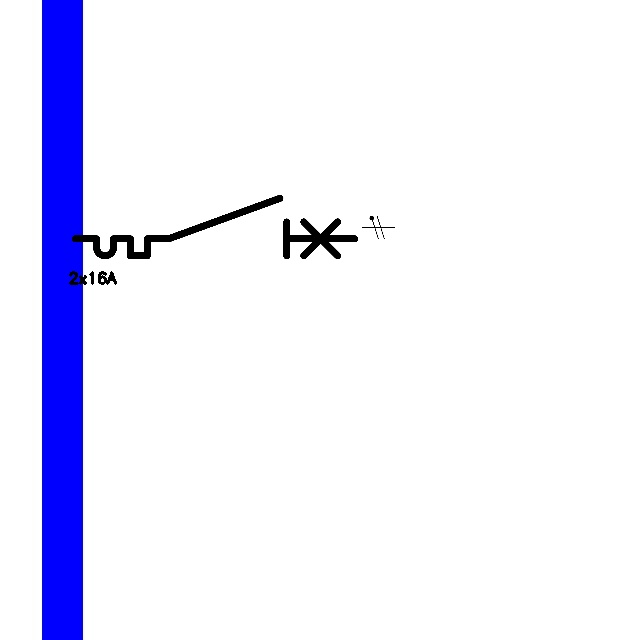interruptor_termomagnetico: (68, 191, 361, 263)
